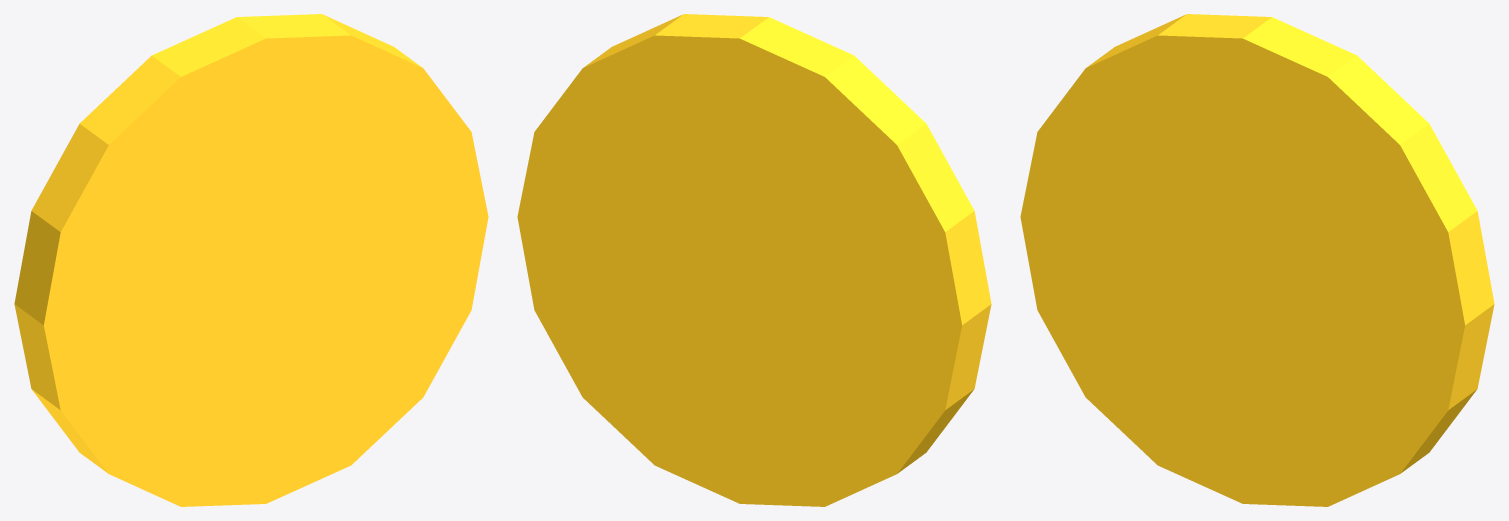
Rendered from coin.glb.
The picture shows the model from 3 angles, left to right: view 1: azimuth 30°, elevation 25°; view 2: azimuth 150°, elevation 25°; view 3: azimuth 330°, elevation 25°; orthographic projection.
Bounding box in the file's own units: 0.7 × 0.7 × 0.08.
